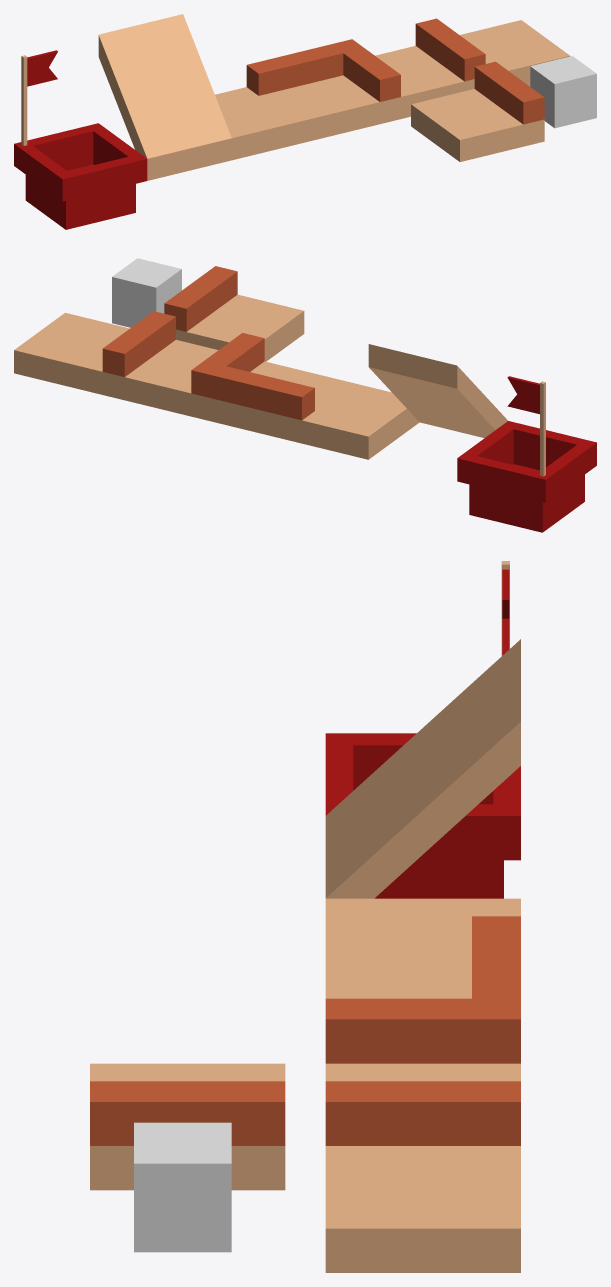
File: APAglb.gltf
The picture shows the model from 3 angles, top to bottom: view 1: azimuth 30°, elevation 25°; view 2: azimuth 150°, elevation 25°; view 3: azimuth 270°, elevation 25°; orthographic projection. The views are drawn at different scales.
Visible parts, largest first — view 1: floor-ramp, target, floor-corner-borders, floor-border.001, floor-corner, floor-border, Cube, floor; view 2: target, floor-corner, floor-corner-borders, floor-border, floor-border.001, floor-ramp, floor, Cube; view 3: floor, floor-ramp, floor-border.001, floor-corner-borders, floor-border, floor-corner, target, Cube.
Part boxes in pixels (bbox=[...]): floor-ramp: bbox=[98, 14, 231, 180]; target: bbox=[14, 50, 147, 229]; floor-corner-borders: bbox=[268, 39, 400, 139]; floor-border.001: bbox=[411, 61, 544, 161]; floor-corner: bbox=[215, 60, 316, 160]; floor-border: bbox=[375, 18, 485, 118]; Cube: bbox=[530, 56, 596, 128]; floor: bbox=[460, 20, 570, 86]; target: bbox=[457, 376, 596, 532]; floor-corner: bbox=[280, 377, 419, 459]; floor-corner-borders: bbox=[191, 333, 330, 437]; floor-border: bbox=[102, 311, 218, 416]; floor-border.001: bbox=[164, 266, 304, 361]; floor-ramp: bbox=[368, 344, 507, 437]; floor: bbox=[14, 312, 129, 394]; Cube: bbox=[112, 258, 181, 327]; floor: bbox=[325, 1146, 520, 1272]; floor-ramp: bbox=[325, 639, 520, 898]; floor-border.001: bbox=[90, 1063, 285, 1190]; floor-corner-borders: bbox=[325, 937, 520, 1063]; floor-border: bbox=[325, 1063, 520, 1145]; floor-corner: bbox=[325, 898, 520, 980]; target: bbox=[325, 561, 520, 898]; Cube: bbox=[134, 1122, 231, 1252].
Size of what is drawn, in the model's own units: 24 by 6.5 by 8.82.
3 materials, 2 textured.
